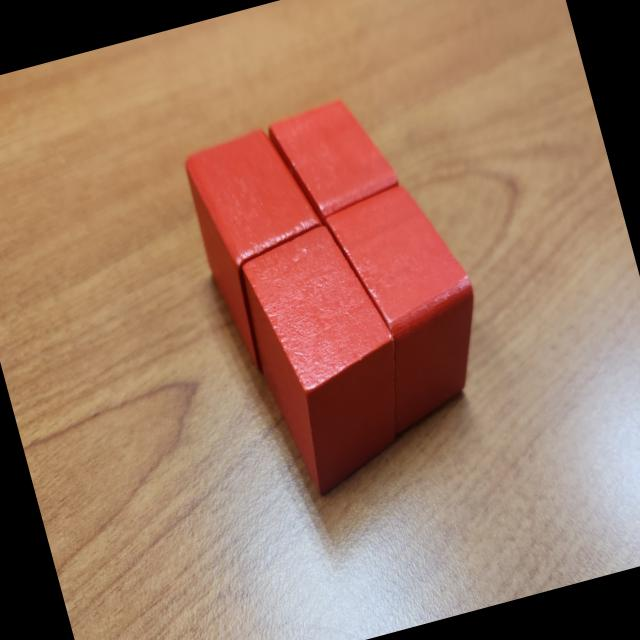red: (228, 213, 426, 502), (318, 170, 504, 440), (178, 117, 364, 380), (264, 89, 404, 230)
